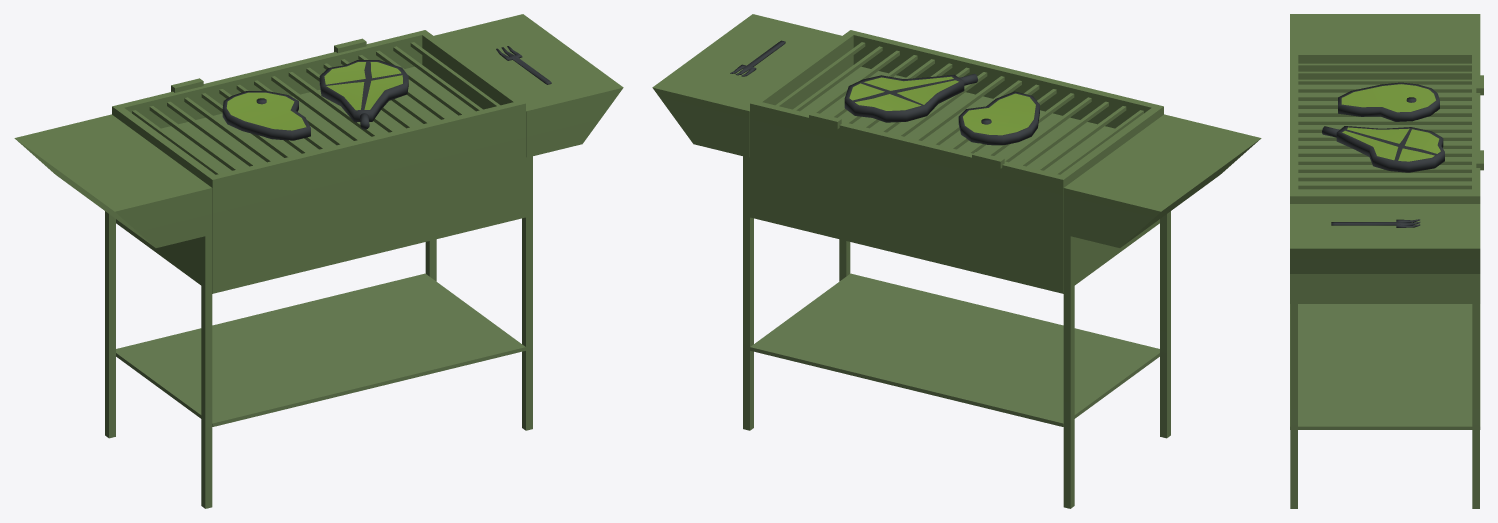
The model's file is Grill_01.fbx.
3 renders of one model, left to right at view 1: azimuth 30°, elevation 25°; view 2: azimuth 150°, elevation 25°; view 3: azimuth 270°, elevation 25°, orthographic. The views are drawn at different scales.
Parts seen in each view (by area): view 1: Grill_01; view 2: Grill_01; view 3: Grill_01.
Part boxes in pixels (x1=…): Grill_01: x1=14, y1=14, x2=623, y2=508; Grill_01: x1=652, y1=14, x2=1261, y2=508; Grill_01: x1=1290, y1=14, x2=1483, y2=508.
Bounding box in the file's own units: 1.46 × 0.912 × 0.5096.
